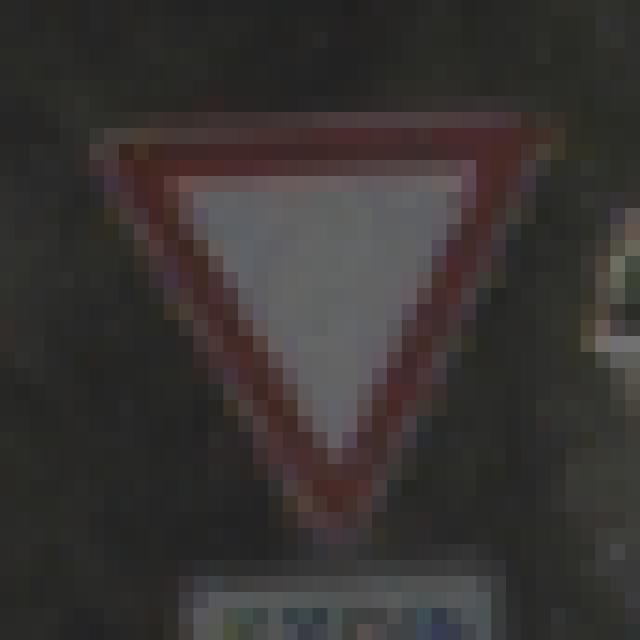Give Way: (76, 81, 567, 561)
